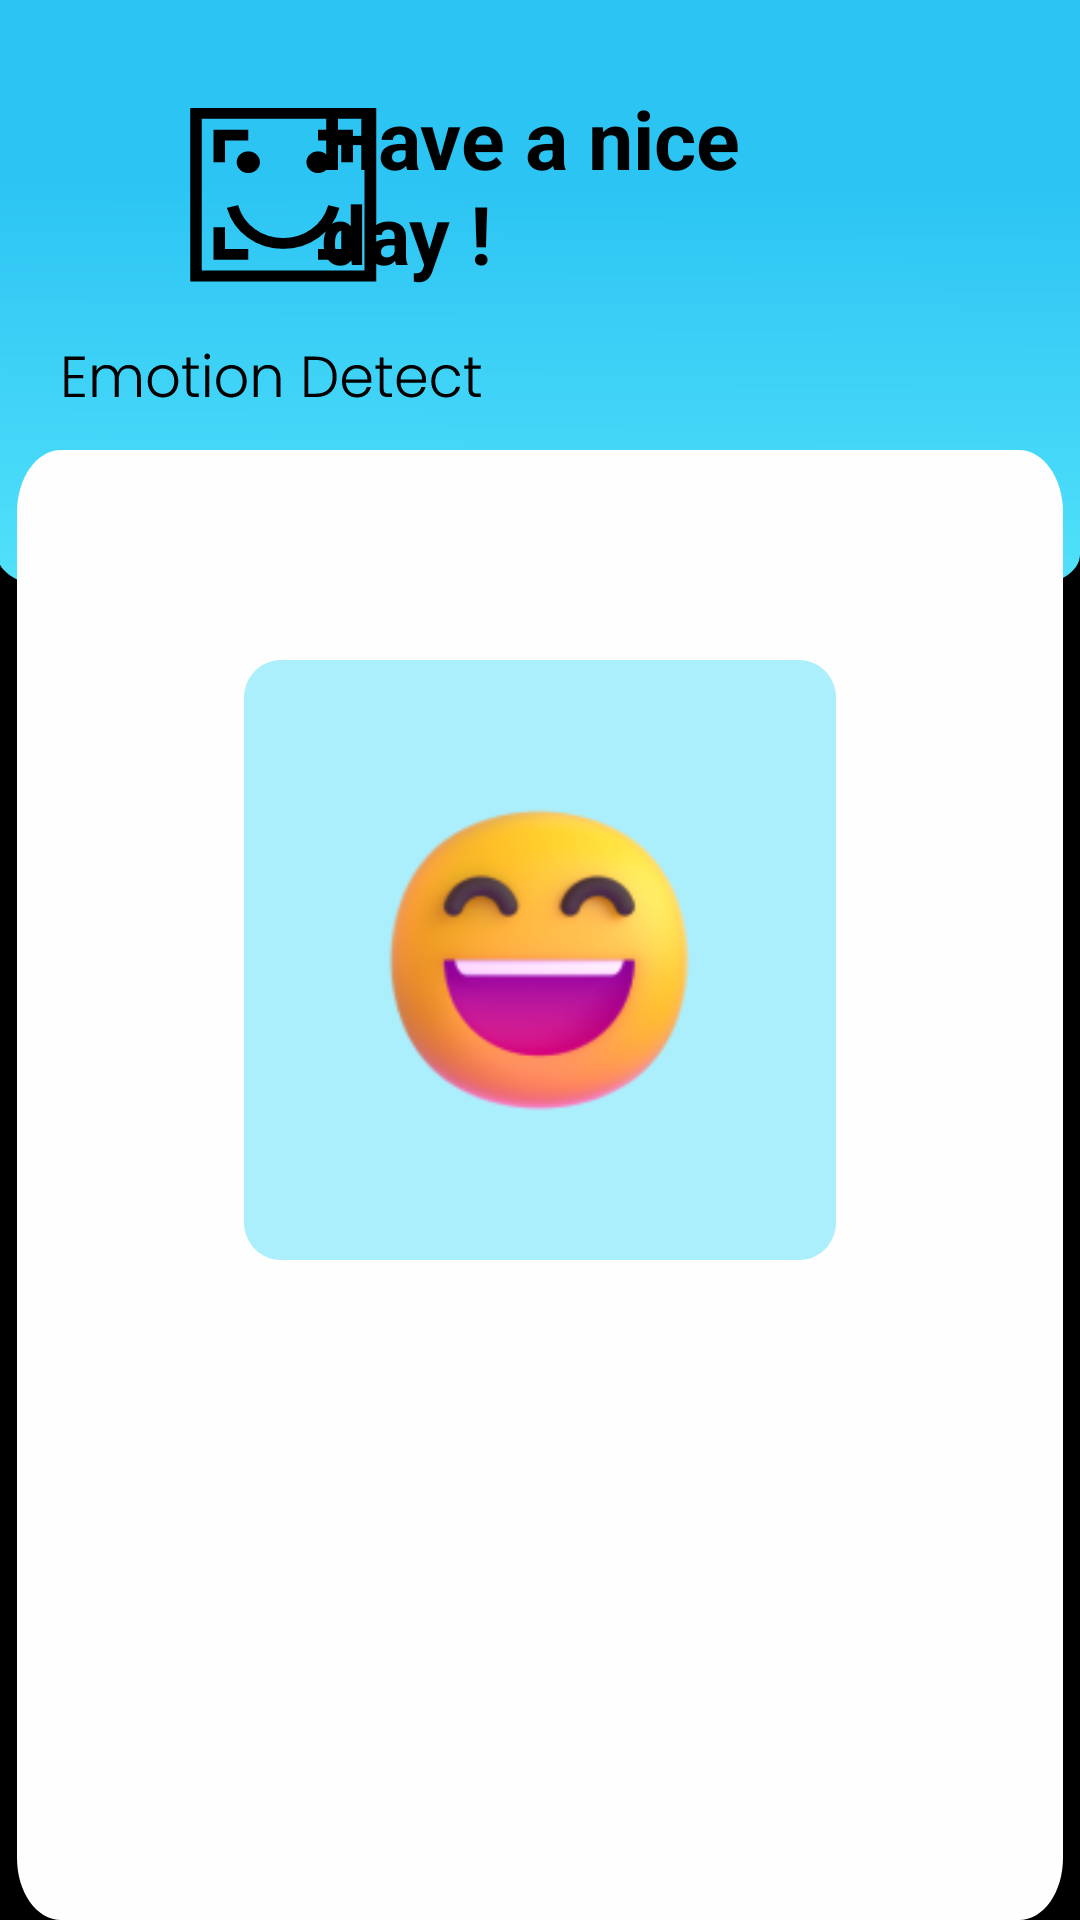

Icon click points for this 1080×1920 phone screenshot, format [x,y]:
happy: [539,960]
